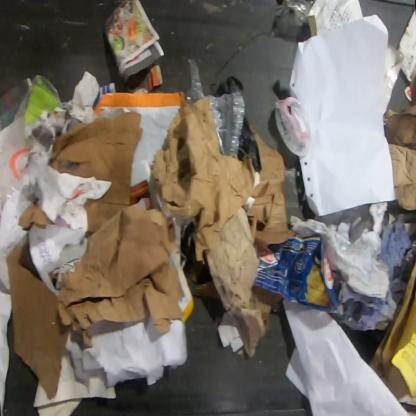cardboard: (56, 206, 185, 348), (47, 111, 143, 232), (6, 242, 71, 400), (369, 233, 415, 385), (253, 235, 341, 312), (246, 121, 294, 257), (16, 198, 59, 233)
rigid_plastic: (0, 75, 63, 190)
soft_plastic: (184, 58, 246, 155), (274, 97, 312, 158), (238, 118, 260, 170), (214, 72, 244, 102)
